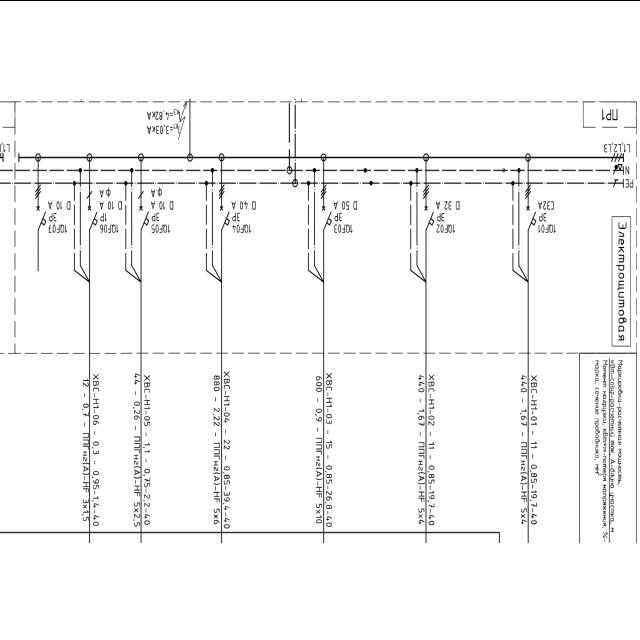-: (150, 185, 174, 221), (99, 186, 122, 222), (436, 196, 460, 222), (48, 198, 72, 223), (536, 198, 560, 222), (333, 198, 357, 222), (230, 199, 256, 221), (600, 104, 620, 122)
QF: (34, 204, 48, 230), (524, 203, 537, 230), (218, 204, 231, 230), (422, 204, 435, 230), (321, 204, 334, 230), (138, 203, 150, 230), (86, 203, 98, 230)
